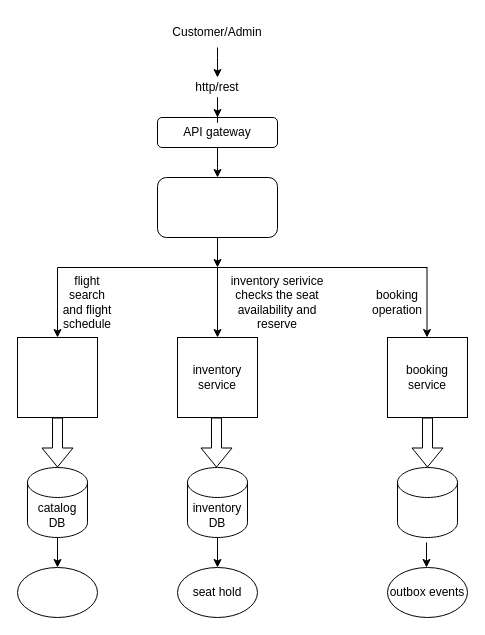
The diagram is 485 pixels wide and 635 high, and some of its shapes have lost their labels. The centre of each missing label's shape, as x and y in pixels:
booking DB: (x=427, y=502)
flight catalog: (x=57, y=377)
loadbalancer: (x=217, y=207)
redis: (x=57, y=592)
